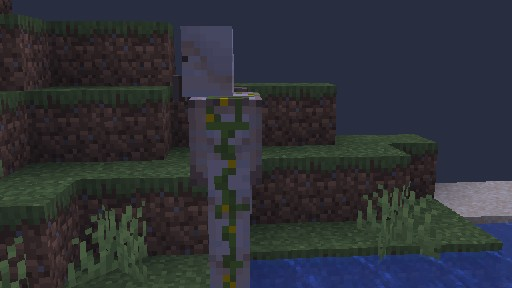iron_golem: (171, 25, 262, 288)
